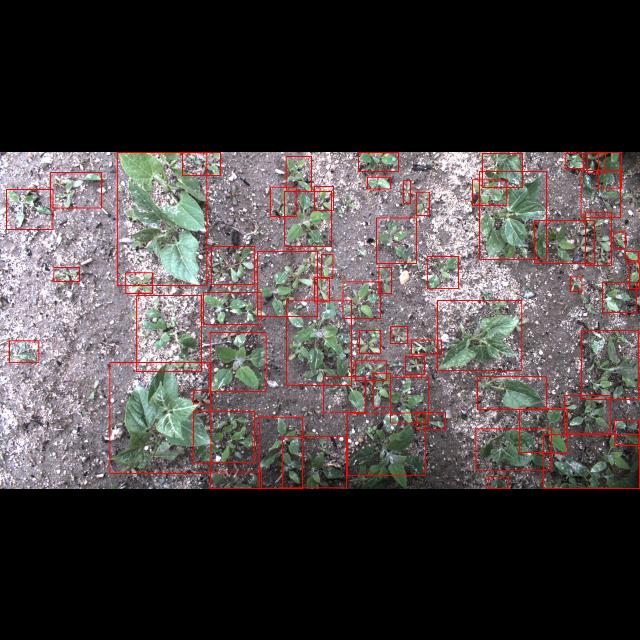crop: (117, 152, 207, 284), (479, 170, 546, 258), (438, 300, 522, 370), (210, 332, 266, 391), (475, 428, 551, 469), (478, 376, 546, 409), (482, 152, 522, 186), (488, 476, 508, 488)
weed: (110, 362, 210, 473), (286, 299, 352, 385), (543, 434, 639, 488), (136, 295, 202, 371), (347, 413, 425, 475), (257, 250, 317, 316), (582, 329, 638, 398), (282, 437, 346, 488), (193, 410, 254, 462), (260, 416, 302, 488), (284, 190, 332, 246), (534, 220, 594, 262), (519, 408, 567, 452), (581, 170, 621, 217), (203, 292, 261, 324), (564, 394, 610, 434), (7, 188, 53, 228), (389, 377, 428, 423), (377, 218, 417, 262), (50, 172, 101, 206), (212, 246, 254, 284), (323, 376, 365, 412), (342, 280, 380, 318), (585, 211, 611, 265), (602, 282, 636, 312), (428, 256, 458, 288), (286, 156, 312, 190), (182, 152, 220, 174), (210, 472, 262, 488), (473, 180, 507, 204), (598, 152, 622, 186), (270, 186, 296, 216), (358, 152, 398, 170), (9, 341, 39, 362), (614, 420, 640, 444), (356, 360, 386, 380), (374, 373, 391, 407), (416, 412, 446, 430), (126, 272, 152, 292), (359, 330, 381, 352), (314, 186, 334, 210), (412, 339, 442, 353), (54, 266, 80, 282), (314, 276, 330, 302), (586, 152, 606, 172), (378, 267, 392, 293), (406, 356, 424, 374), (416, 191, 429, 215), (321, 254, 333, 278), (390, 326, 408, 342), (565, 152, 583, 168), (629, 260, 639, 288), (368, 176, 390, 188), (193, 391, 210, 404), (614, 230, 624, 248), (570, 276, 582, 290), (404, 180, 411, 202), (626, 250, 638, 260)
